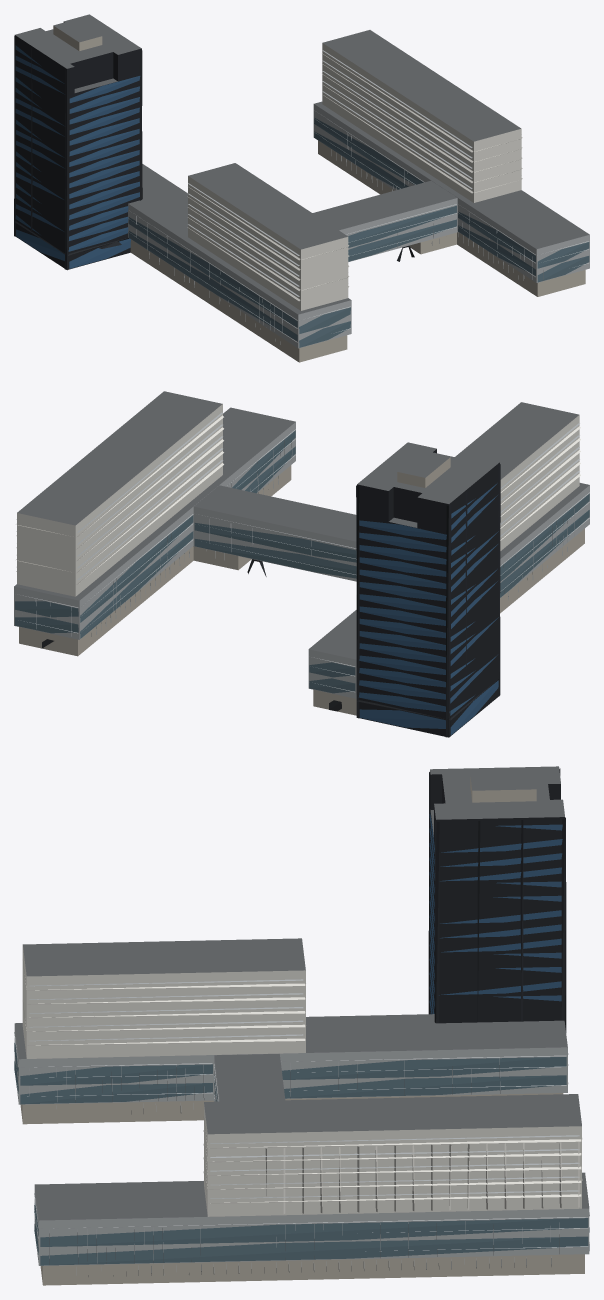
The model's file is gebouw-parnas.lod1.glb.
3 renders of one model, top to bottom at view 1: azimuth 30°, elevation 25°; view 2: azimuth 150°, elevation 25°; view 3: azimuth 270°, elevation 25°, orthographic. The views are drawn at different scales.
Visible parts, largest first — view 1: gebouw-parnas; view 2: gebouw-parnas; view 3: gebouw-parnas.
Part boxes in pixels (left/top/right/bottom): gebouw-parnas: left=14, top=14, right=589, bottom=362; gebouw-parnas: left=14, top=391, right=589, bottom=737; gebouw-parnas: left=14, top=766, right=589, bottom=1285.
Size of the model in its own units: 114 by 59.5 by 110.
